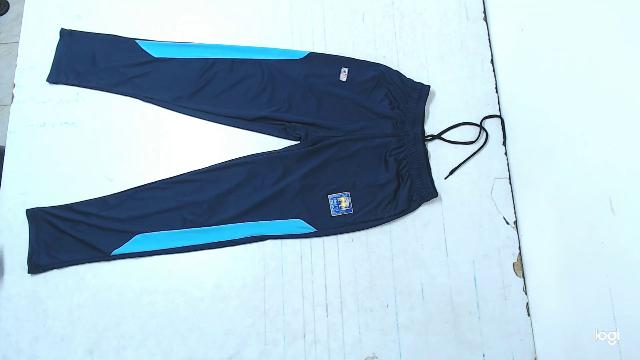new-garment: (26, 29, 443, 273)
